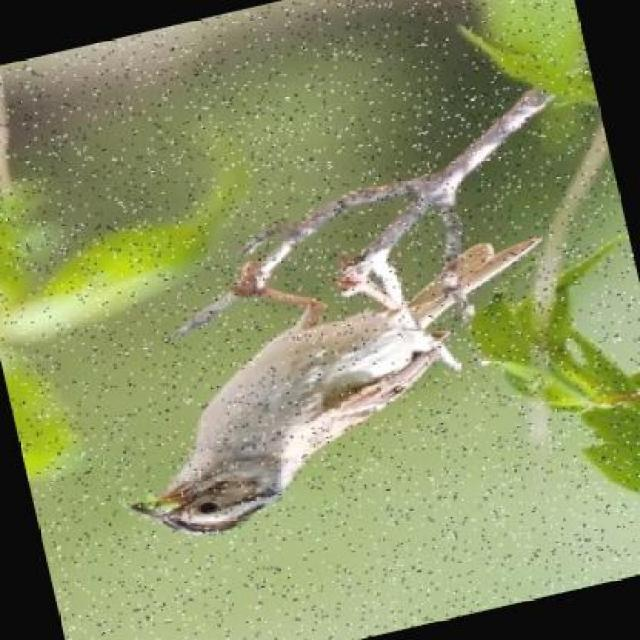Bird: (126, 233, 545, 543)
